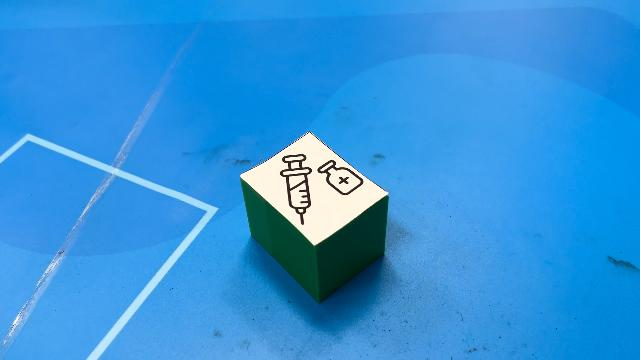syringe: (242, 133, 388, 300)
